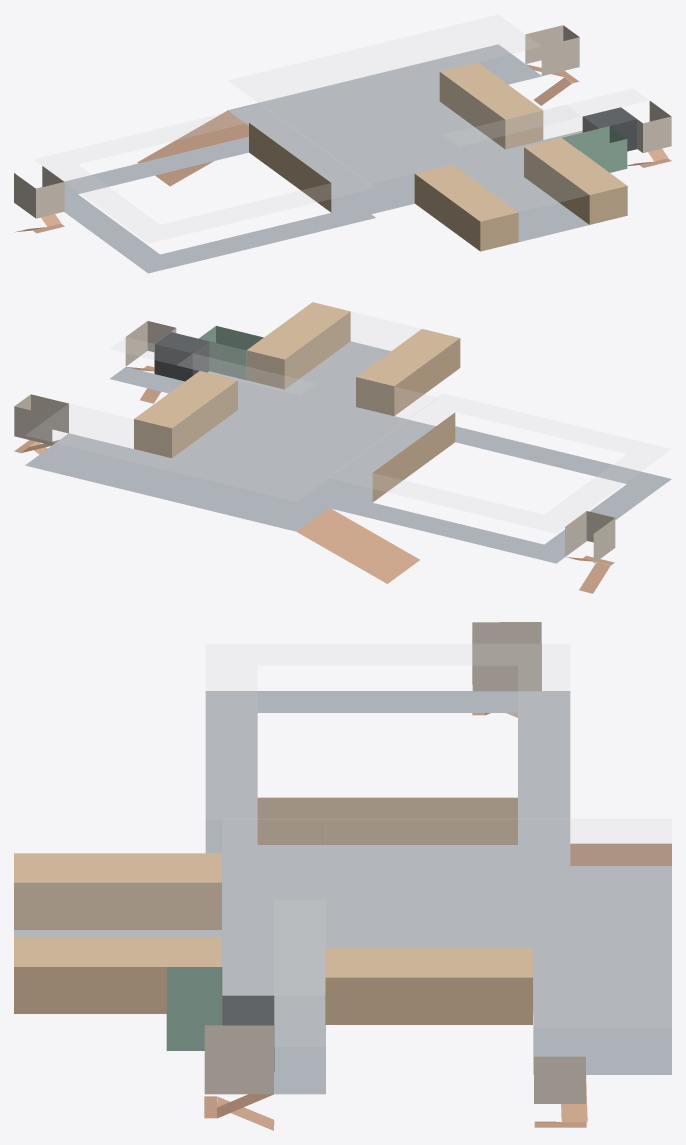
The picture shows the model from 3 angles, top to bottom: view 1: azimuth 30°, elevation 25°; view 2: azimuth 150°, elevation 25°; view 3: azimuth 270°, elevation 25°; orthographic projection. The views are drawn at different scales.
Parts seen in each view (by area): view 1: 立方體.099, Cube.011, 平面.003, 平面.006, 平面.002, Cube.021, 平面.005, 立方體.183, 立方體.001, 立方體.162, 立方體.161, 立方體.166 (+12 smaller); view 2: 立方體.099, 平面.002, Cube.011, 平面.003, 平面.006, Cube.021, 平面.005, 立方體.001, 立方體.183, 平面.004, 立方體.160, 立方體.163 (+14 smaller); view 3: 立方體.099, Cube.021, Cube.011, 平面.003, 平面.002, 平面.006, 平面.005, 立方體.001, Cube.022, 立方體.183, 立方體.165, 立方體.162 (+13 smaller).
Boxes of the visible parts, bbox=[...] form: 立方體.099: bbox=[275, 101, 531, 214]; Cube.011: bbox=[34, 104, 374, 242]; 平面.003: bbox=[229, 15, 540, 111]; 平面.006: bbox=[273, 72, 504, 159]; 平面.002: bbox=[228, 44, 541, 141]; Cube.021: bbox=[36, 136, 375, 273]; 平面.005: bbox=[339, 105, 597, 183]; 立方體.183: bbox=[454, 147, 587, 211]; 立方體.001: bbox=[338, 134, 567, 213]; 立方體.162: bbox=[556, 162, 627, 224]; 立方體.161: bbox=[447, 188, 518, 251]; 立方體.166: bbox=[472, 86, 543, 149]; 立方體.099: bbox=[172, 380, 435, 499]; 平面.002: bbox=[25, 433, 339, 531]; Cube.011: bbox=[328, 394, 670, 532]; 平面.003: bbox=[26, 404, 338, 501]; 平面.006: bbox=[173, 381, 404, 468]; Cube.021: bbox=[329, 426, 671, 563]; 平面.005: bbox=[178, 342, 437, 420]; 立方體.001: bbox=[208, 371, 433, 450]; 立方體.183: bbox=[285, 312, 420, 376]; 平面.004: bbox=[297, 508, 419, 583]; 立方體.160: bbox=[356, 353, 427, 415]; 立方體.163: bbox=[246, 326, 317, 389]; 立方體.099: bbox=[221, 867, 533, 1014]; Cube.021: bbox=[205, 691, 570, 866]; Cube.011: bbox=[206, 644, 569, 818]; 平面.003: bbox=[534, 819, 671, 1026]; 平面.002: bbox=[533, 866, 671, 1074]; 平面.006: bbox=[326, 819, 532, 947]; 平面.005: bbox=[223, 819, 325, 994]; 立方體.001: bbox=[221, 867, 325, 1042]; Cube.022: bbox=[257, 797, 517, 844]; 立方體.183: bbox=[14, 883, 221, 936]; 立方體.165: bbox=[428, 948, 532, 1024]; 立方體.162: bbox=[14, 937, 118, 1013].
Bounding box in the file's own units: 59.28 × 6.02 × 37.92.
